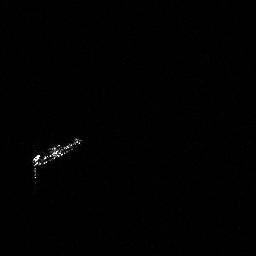ship: (32, 137, 82, 167)
